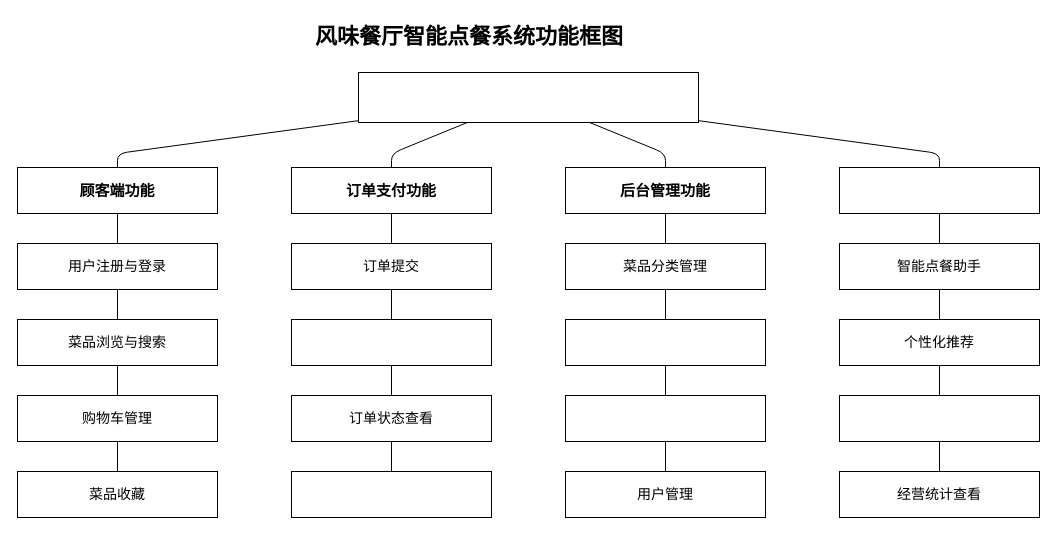
This 1057x535 diagram has some shape labels left out. Each missing label, with the centre of its shape:
"支付记录管理" belongs at (x=939, y=418).
"智能服务功能" belongs at (x=939, y=190).
"菜品信息管理" belongs at (x=665, y=342).
"订单支付" belongs at (x=391, y=342).
"订单评价" belongs at (x=391, y=494).
"风味餐厅智能点餐系统" belongs at (x=528, y=97).
"餐桌管理" belongs at (x=665, y=418).
